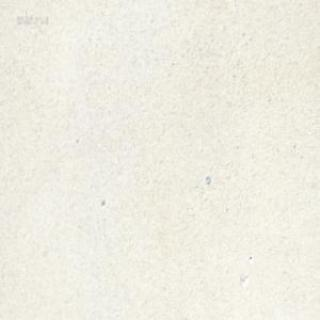Washertrack_idkeyframe: (204, 174, 210, 184)
